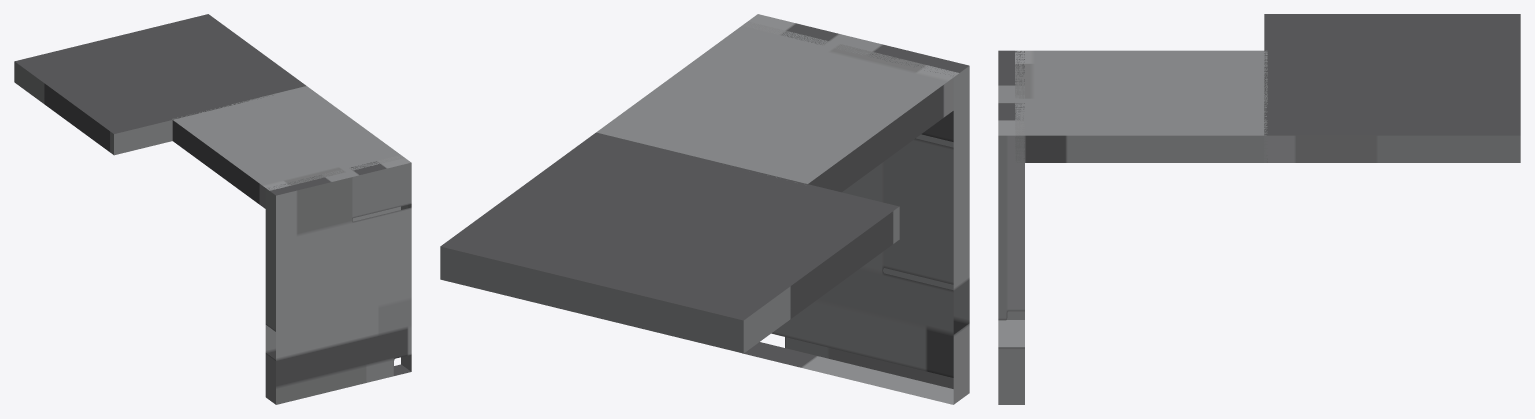
3 views of the same model, side by side, from view 1: azimuth 30°, elevation 25°; view 2: azimuth 150°, elevation 25°; view 3: azimuth 270°, elevation 25° (orthographic). The views are drawn at different scales.
Size of the model in its own units: 0.8659 by 0.893 by 1.57.
